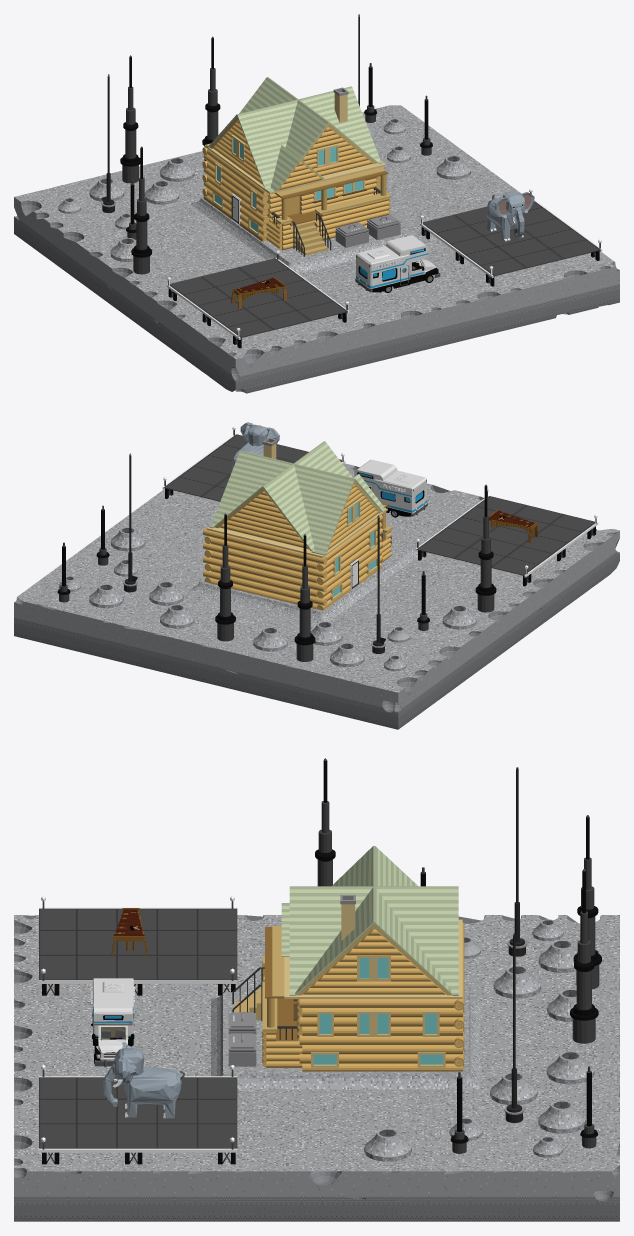
3 views of the same model, one above another, from view 1: azimuth 30°, elevation 25°; view 2: azimuth 150°, elevation 25°; view 3: azimuth 270°, elevation 25° (orthographic). The views are drawn at different scales.
Parts seen in each view (by area): view 1: Cube.027, Cube.1516, Cube.025, Cube.026, VEHICLES_CAMPER, Cube.028, ANIMAL_ELEFANTE, Cylinder.021, Cylinder.020, Cylinder.017, OBJRANDOM_MARIMBA, Cube.029 (+6 smaller); view 2: Cube.027, Cube.1516, Cube.025, Cube.028, Cube.026, VEHICLES_CAMPER, Cylinder.021, Cylinder.020, Cylinder.017, ANIMAL_ELEFANTE, OBJRANDOM_MARIMBA, Cylinder.025 (+9 smaller); view 3: Cube.027, Cube.1516, Cube.025, Cube.026, Cube.028, ANIMAL_ELEFANTE, VEHICLES_CAMPER, Cylinder.017, Cylinder.021, Cylinder.020, Cylinder.033, Cylinder.031 (+12 smaller).
Part boxes in pixels (x1=…): Cube.027: x1=14, y1=105, x2=619, y2=393; Cube.1516: x1=202, y1=77, x2=391, y2=256; Cube.025: x1=166, y1=250, x2=349, y2=348; Cube.026: x1=419, y1=189, x2=602, y2=286; VEHICLES_CAMPER: x1=355, y1=235, x2=440, y2=292; Cube.028: x1=191, y1=197, x2=423, y2=273; ANIMAL_ELEFANTE: x1=486, y1=191, x2=534, y2=241; Cylinder.021: x1=131, y1=146, x2=151, y2=274; Cylinder.020: x1=120, y1=55, x2=140, y2=183; Cylinder.017: x1=202, y1=36, x2=220, y2=160; OBJRANDOM_MARIMBA: x1=231, y1=276, x2=287, y2=308; Cube.029: x1=335, y1=222, x2=368, y2=247; Cube.027: x1=14, y1=463, x2=619, y2=729; Cube.1516: x1=203, y1=437, x2=392, y2=610; Cube.025: x1=415, y1=488, x2=598, y2=586; Cube.028: x1=189, y1=541, x2=417, y2=623; Cube.026: x1=162, y1=426, x2=345, y2=501; VEHICLES_CAMPER: x1=354, y1=459, x2=427, y2=517; Cylinder.021: x1=475, y1=484, x2=496, y2=612; Cylinder.020: x1=294, y1=534, x2=315, y2=661; Cylinder.017: x1=215, y1=513, x2=235, y2=641; ANIMAL_ELEFANTE: x1=232, y1=422, x2=279, y2=469; OBJRANDOM_MARIMBA: x1=489, y1=509, x2=538, y2=542; Cylinder.025: x1=442, y1=605, x2=476, y2=629; Cube.027: x1=14, y1=915, x2=619, y2=1221; Cube.1516: x1=232, y1=846, x2=464, y2=1071; Cube.025: x1=39, y1=896, x2=237, y2=995; Cube.026: x1=39, y1=1065, x2=237, y2=1164; Cube.028: x1=211, y1=992, x2=480, y2=1089; ANIMAL_ELEFANTE: x1=103, y1=1042, x2=184, y2=1118; VEHICLES_CAMPER: x1=91, y1=978, x2=134, y2=1067; Cylinder.017: x1=570, y1=868, x2=598, y2=1043; Cylinder.021: x1=315, y1=758, x2=335, y2=886; Cylinder.020: x1=573, y1=815, x2=601, y2=989; Cylinder.033: x1=364, y1=1128, x2=411, y2=1161; Cylinder.031: x1=538, y1=1100, x2=585, y2=1133.
Size of the model in its own units: 4000 by 1807 by 4000.
Materials: 40 (5 with a texture image).
